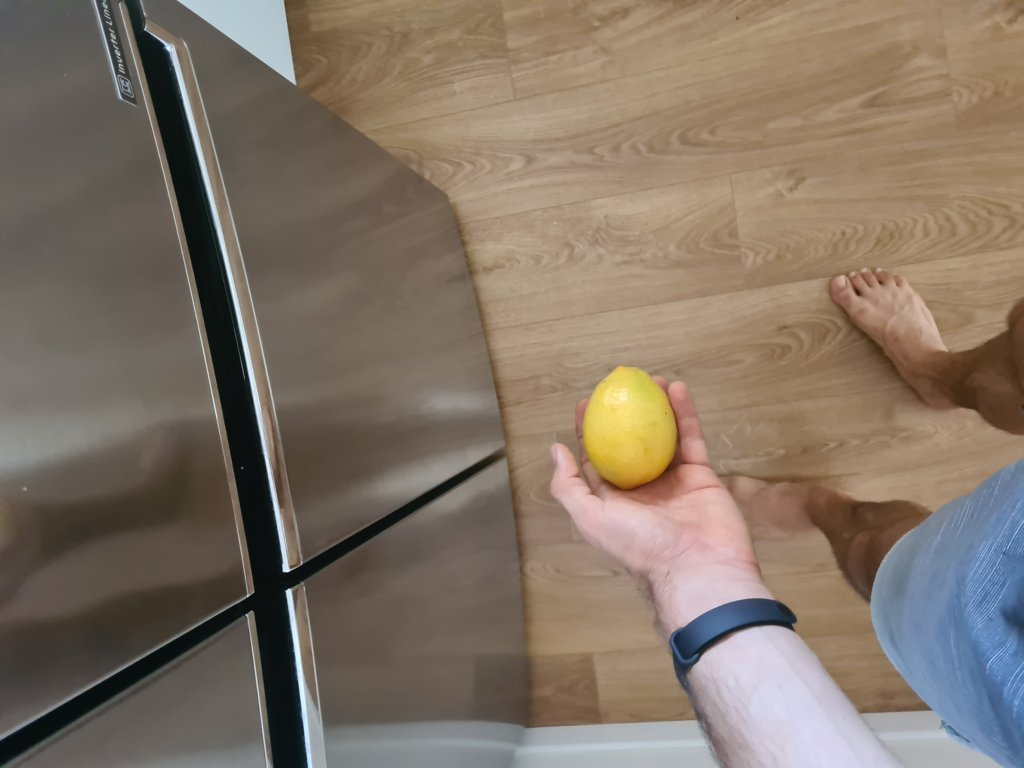lemon: (589, 360, 675, 489)
